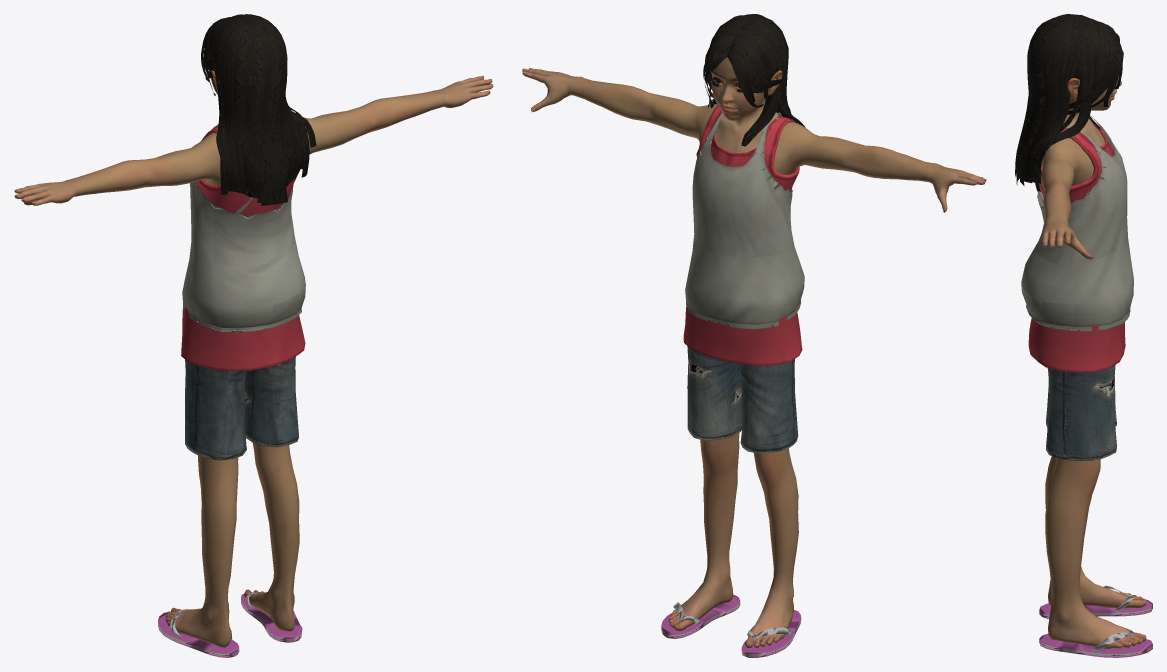
File: FinalChild.fbx
3 renders of one model, left to right at view 1: azimuth 30°, elevation 25°; view 2: azimuth 150°, elevation 25°; view 3: azimuth 270°, elevation 25°, orthographic. The views are drawn at different scales.
Visible parts, largest first — view 1: [l]kyami; view 2: [l]kyami; view 3: [l]kyami.
Part boxes in pixels (x1,y1,x2,y2): [l]kyami: [14, 14, 493, 657]; [l]kyami: [522, 14, 986, 657]; [l]kyami: [1015, 14, 1152, 657].
Bounding box in the file's own units: 107 × 133 × 27.2.
